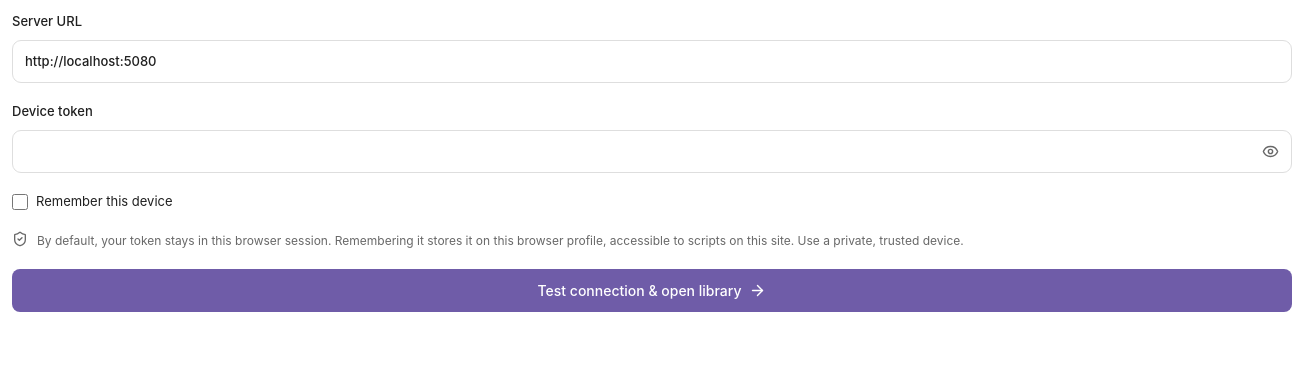
Test case: does not store a rejected credential and explains recovery
Replace the text in the field labelled "Server URL" with "https://fixture.example": point(652, 61) [12,40,1292,83]
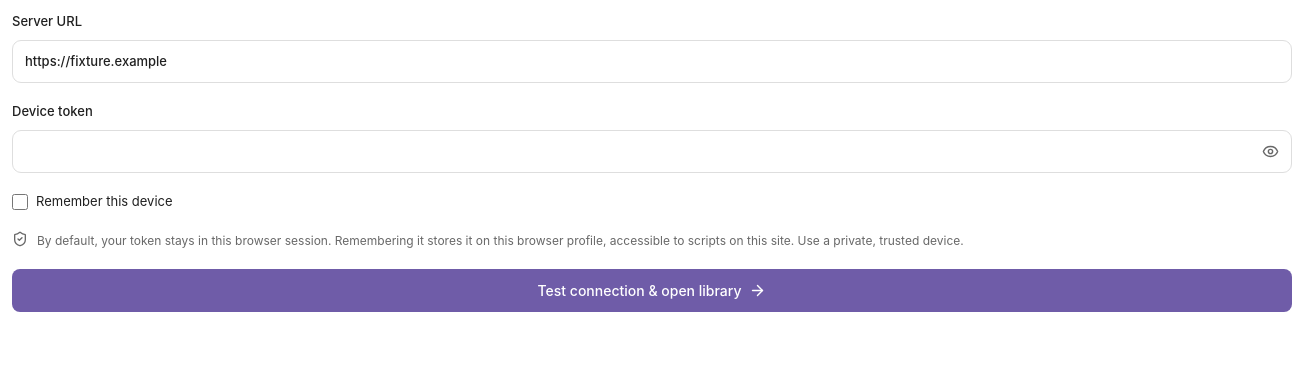
In the password field labelled "Device token": point(652, 151) [12,130,1292,173], type "example-token"
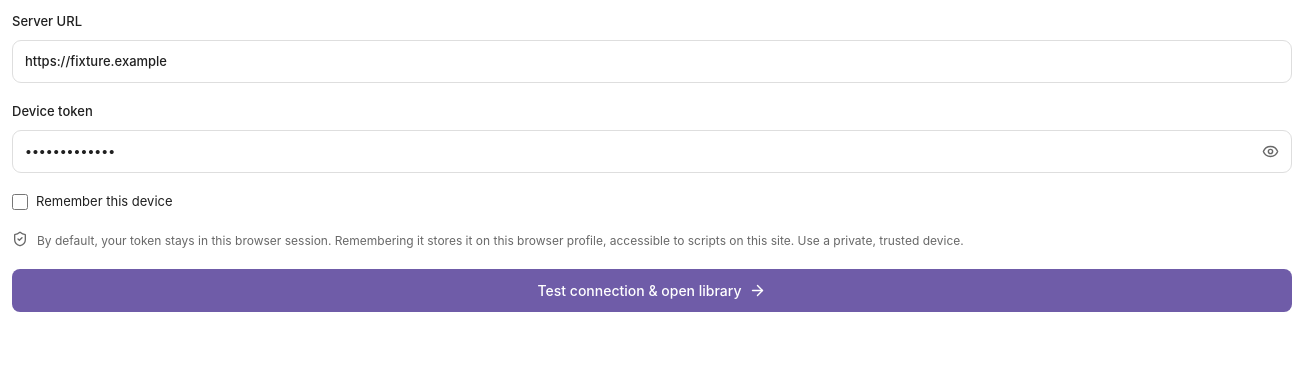
Click the button "Test connection & open library": point(652, 291) [12,269,1292,312]
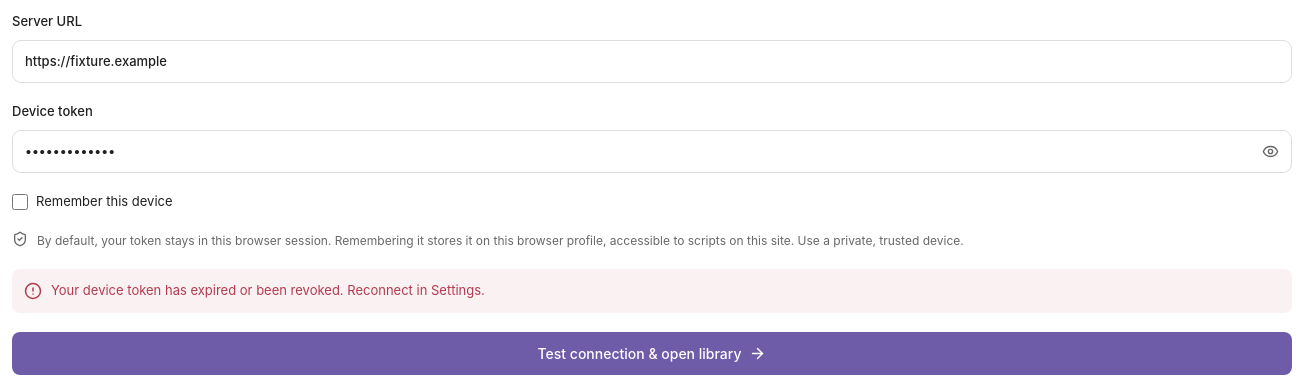
Check: the text "revoked" is shown, box [51,282,485,298]
